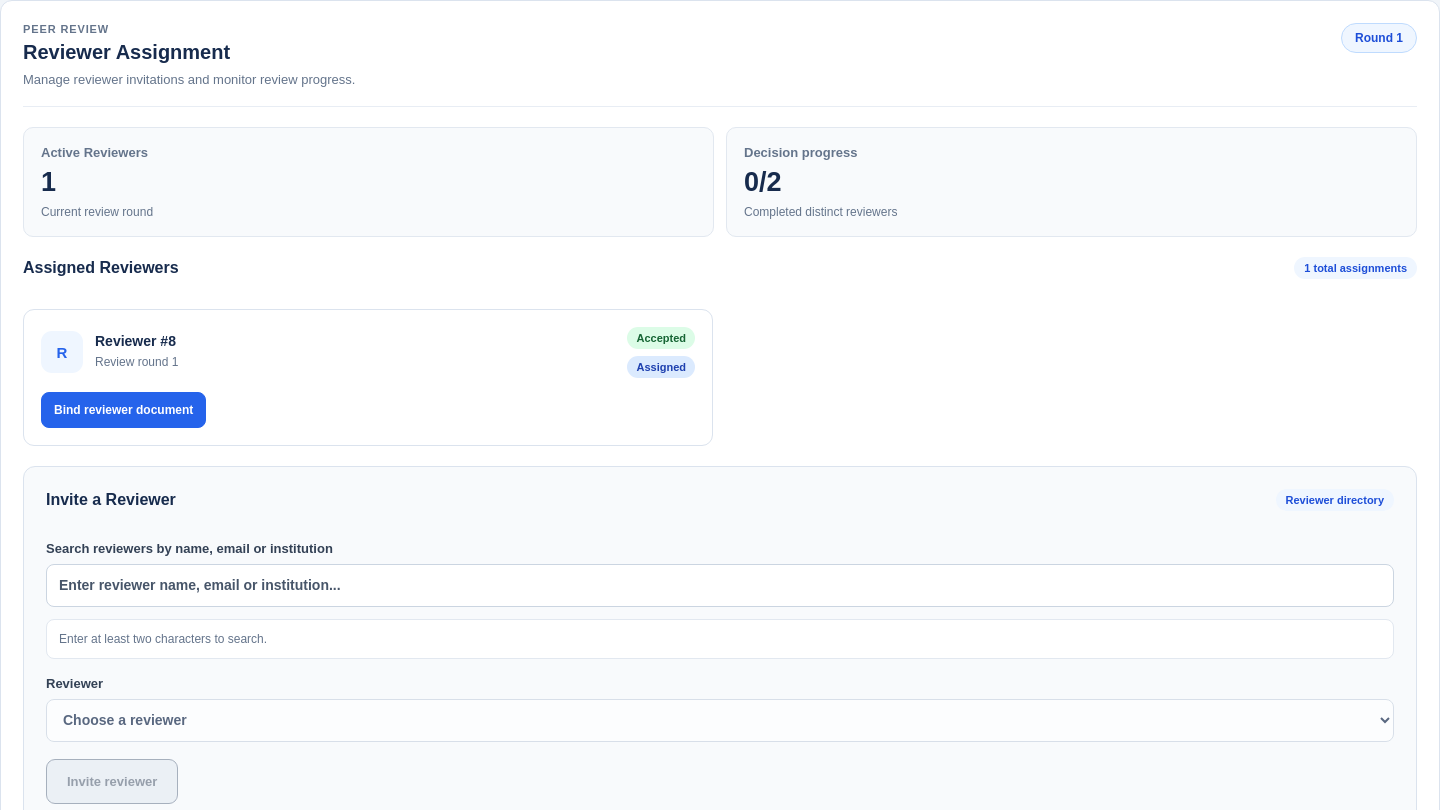
Test case: binds an accepted reviewer's approved document
Click the button "Bind reviewer document". click: (124, 410)
box: x1=41 y1=392 x2=206 y2=428
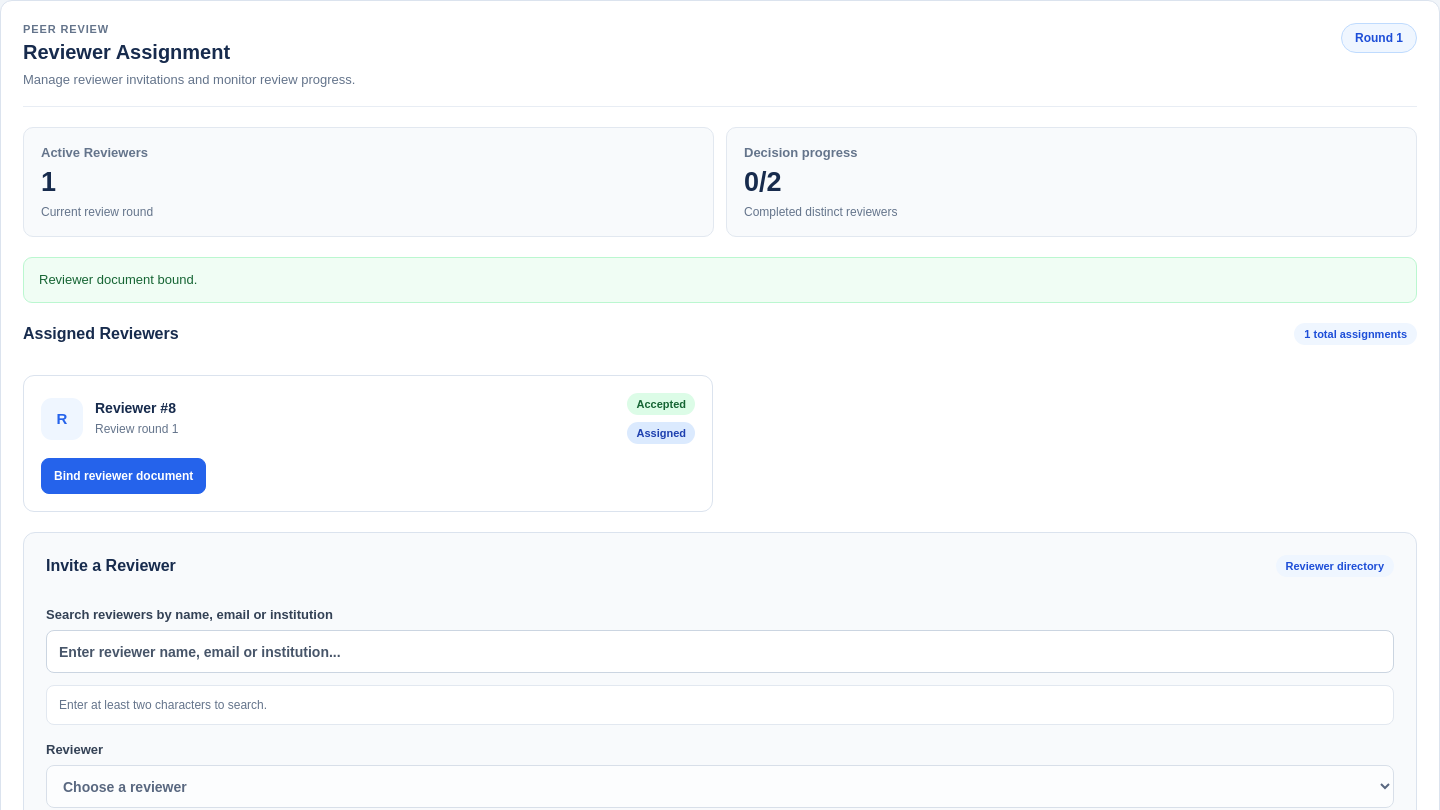
Now the message shows "Reviewer document bound", box x1=39 y1=272 x2=197 y2=286
